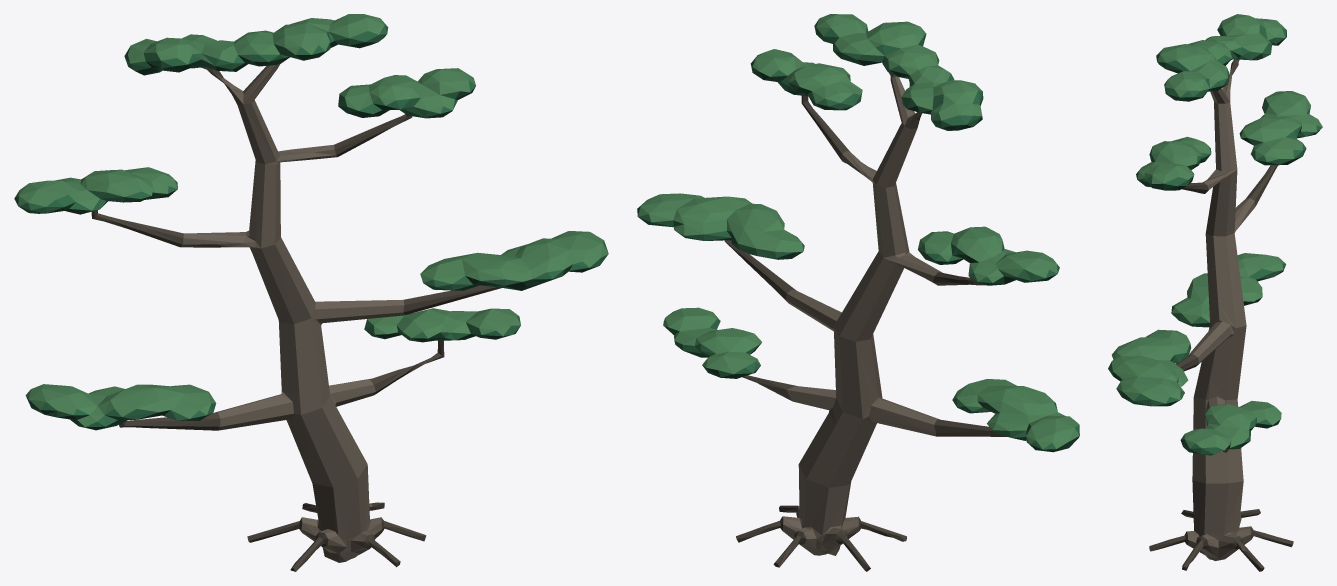
File: ancient-pine-2189-lod1.glb
The picture shows the model from 3 angles, left to right: view 1: azimuth 30°, elevation 25°; view 2: azimuth 150°, elevation 25°; view 3: azimuth 270°, elevation 25°; orthographic projection. The views are drawn at different scales.
Parts seen in each view (by area): view 1: n8.005, n12.005, n11.005, n9.005, n10.005; view 2: n12.005, n8.005, n11.005, n9.005, n10.005; view 3: n12.005, n8.005, n11.005, n9.005, n10.005.
Boxes of the visible parts, left/top/right/bottom form: n8.005: left=181, top=61, right=407, bottom=562; n12.005: left=15, top=14, right=608, bottom=426; n11.005: left=14, top=25, right=608, bottom=427; n9.005: left=91, top=58, right=501, bottom=571; n10.005: left=19, top=35, right=598, bottom=430; n12.005: left=638, top=14, right=1079, bottom=449; n8.005: left=782, top=73, right=942, bottom=555; n11.005: left=637, top=19, right=1079, bottom=449; n9.005: left=724, top=73, right=1006, bottom=571; n10.005: left=638, top=34, right=1079, bottom=452; n12.005: left=1111, top=14, right=1322, bottom=450; n8.005: left=1186, top=62, right=1255, bottom=560; n11.005: left=1108, top=24, right=1322, bottom=454; n9.005: left=1149, top=59, right=1293, bottom=571; n10.005: left=1113, top=31, right=1321, bottom=455.
Size of the model in its own units: 5.24 by 5.43 by 2.19.
